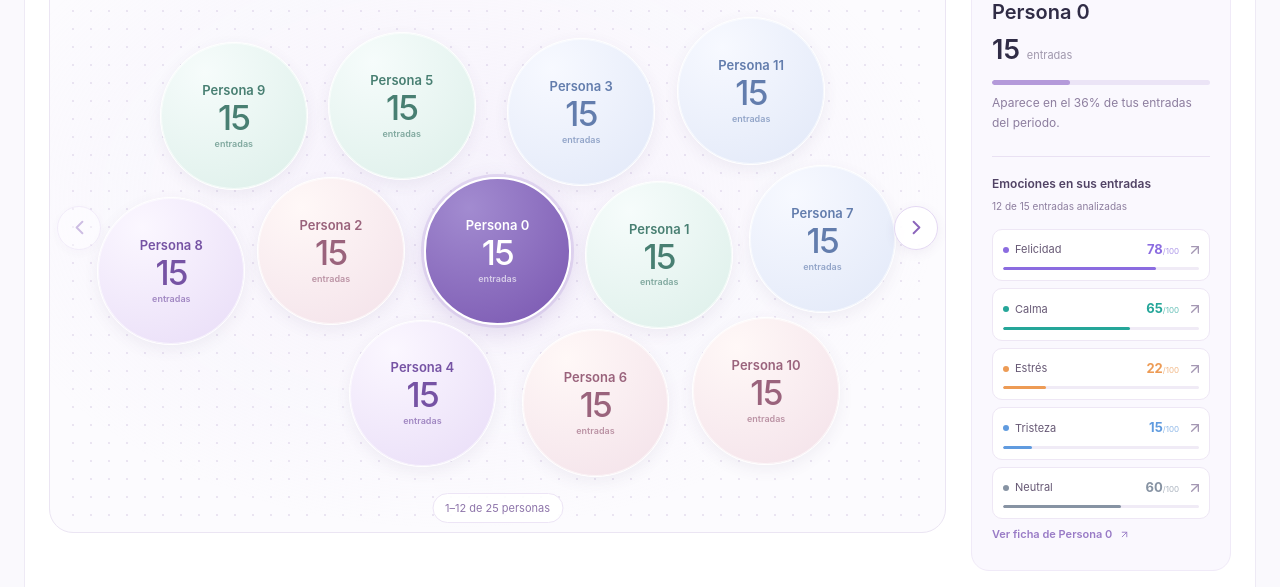
Test case: removes KPI, rhythm and name list; all people remain reachable only through paged bubbles
This screenshot has width=1280, height=587.
(page scrolled)
Click the button named "Siguiente grupo": [916, 228] box [894,206,938,250]
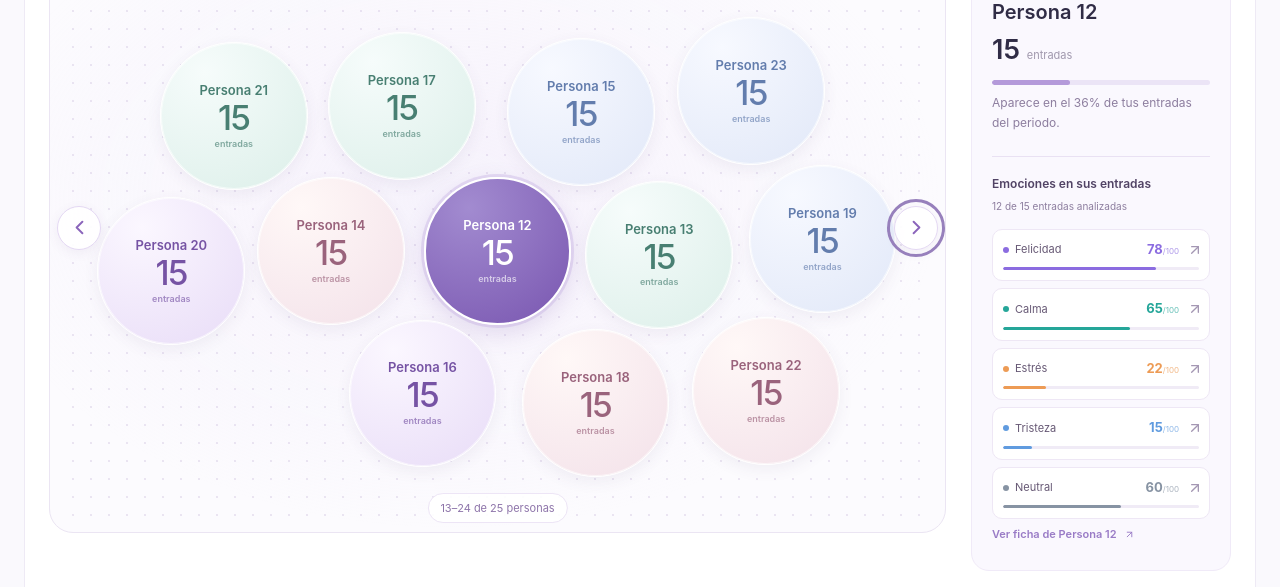
Click the button named "Siguiente grupo": [916, 228] box [894,206,938,250]
(page scrolled)
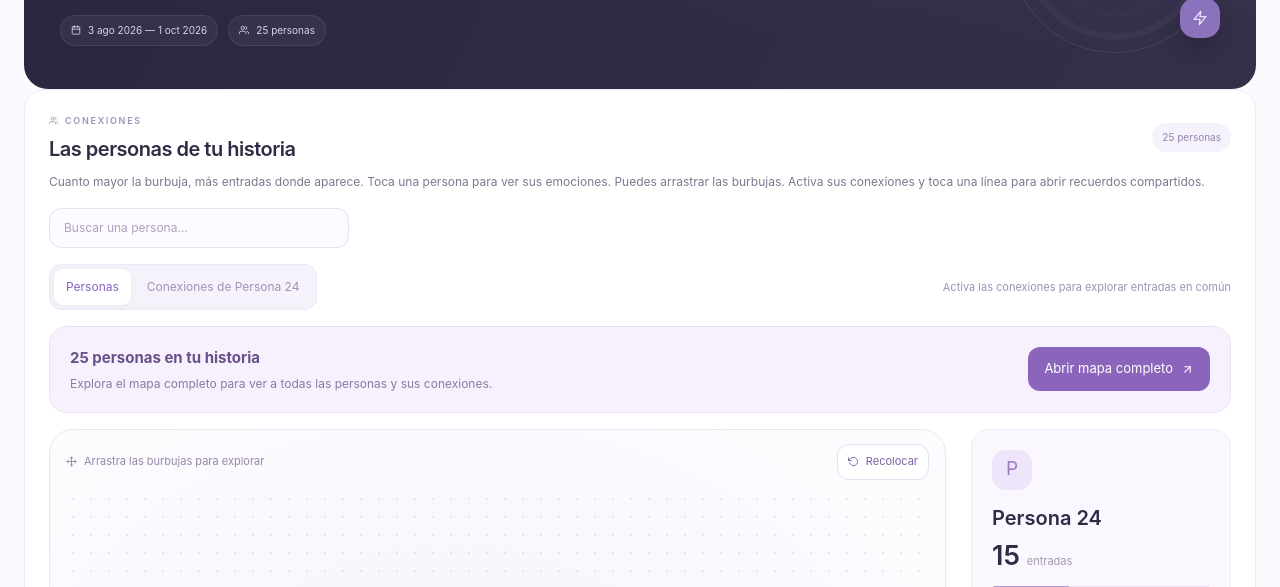
In the field named "Buscar una persona en estadísticas": [199, 228] box [49,208,349,248], type "Persona 0"
(page scrolled)
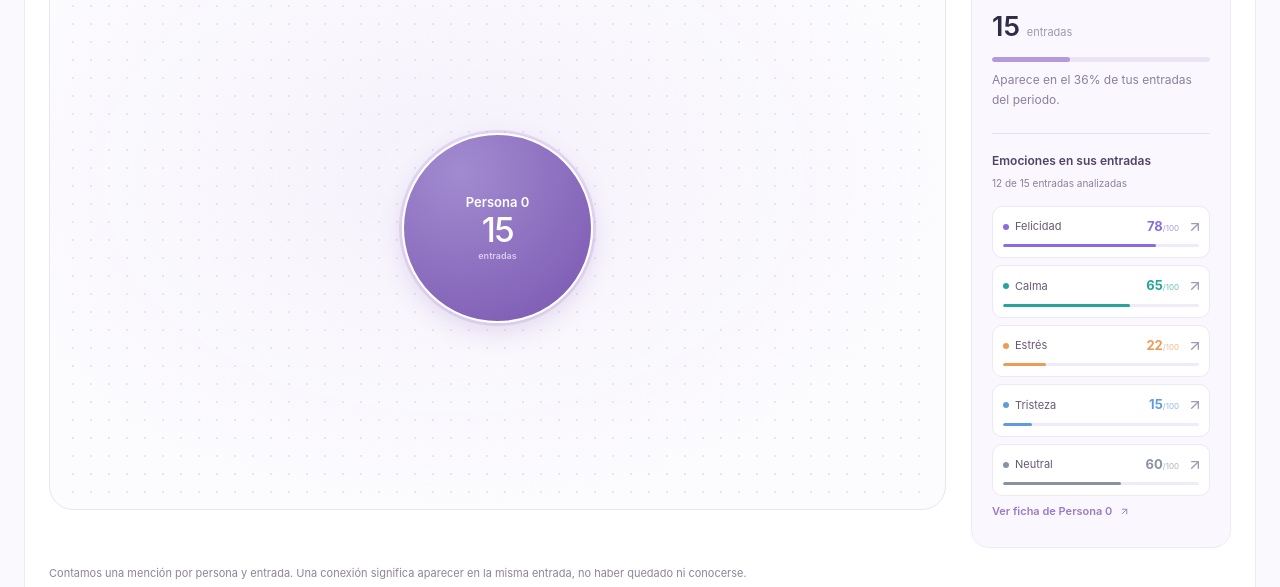
Result: the button with aria-label "Persona 0: 15 entradas" is shown at [402,132,593,323]
